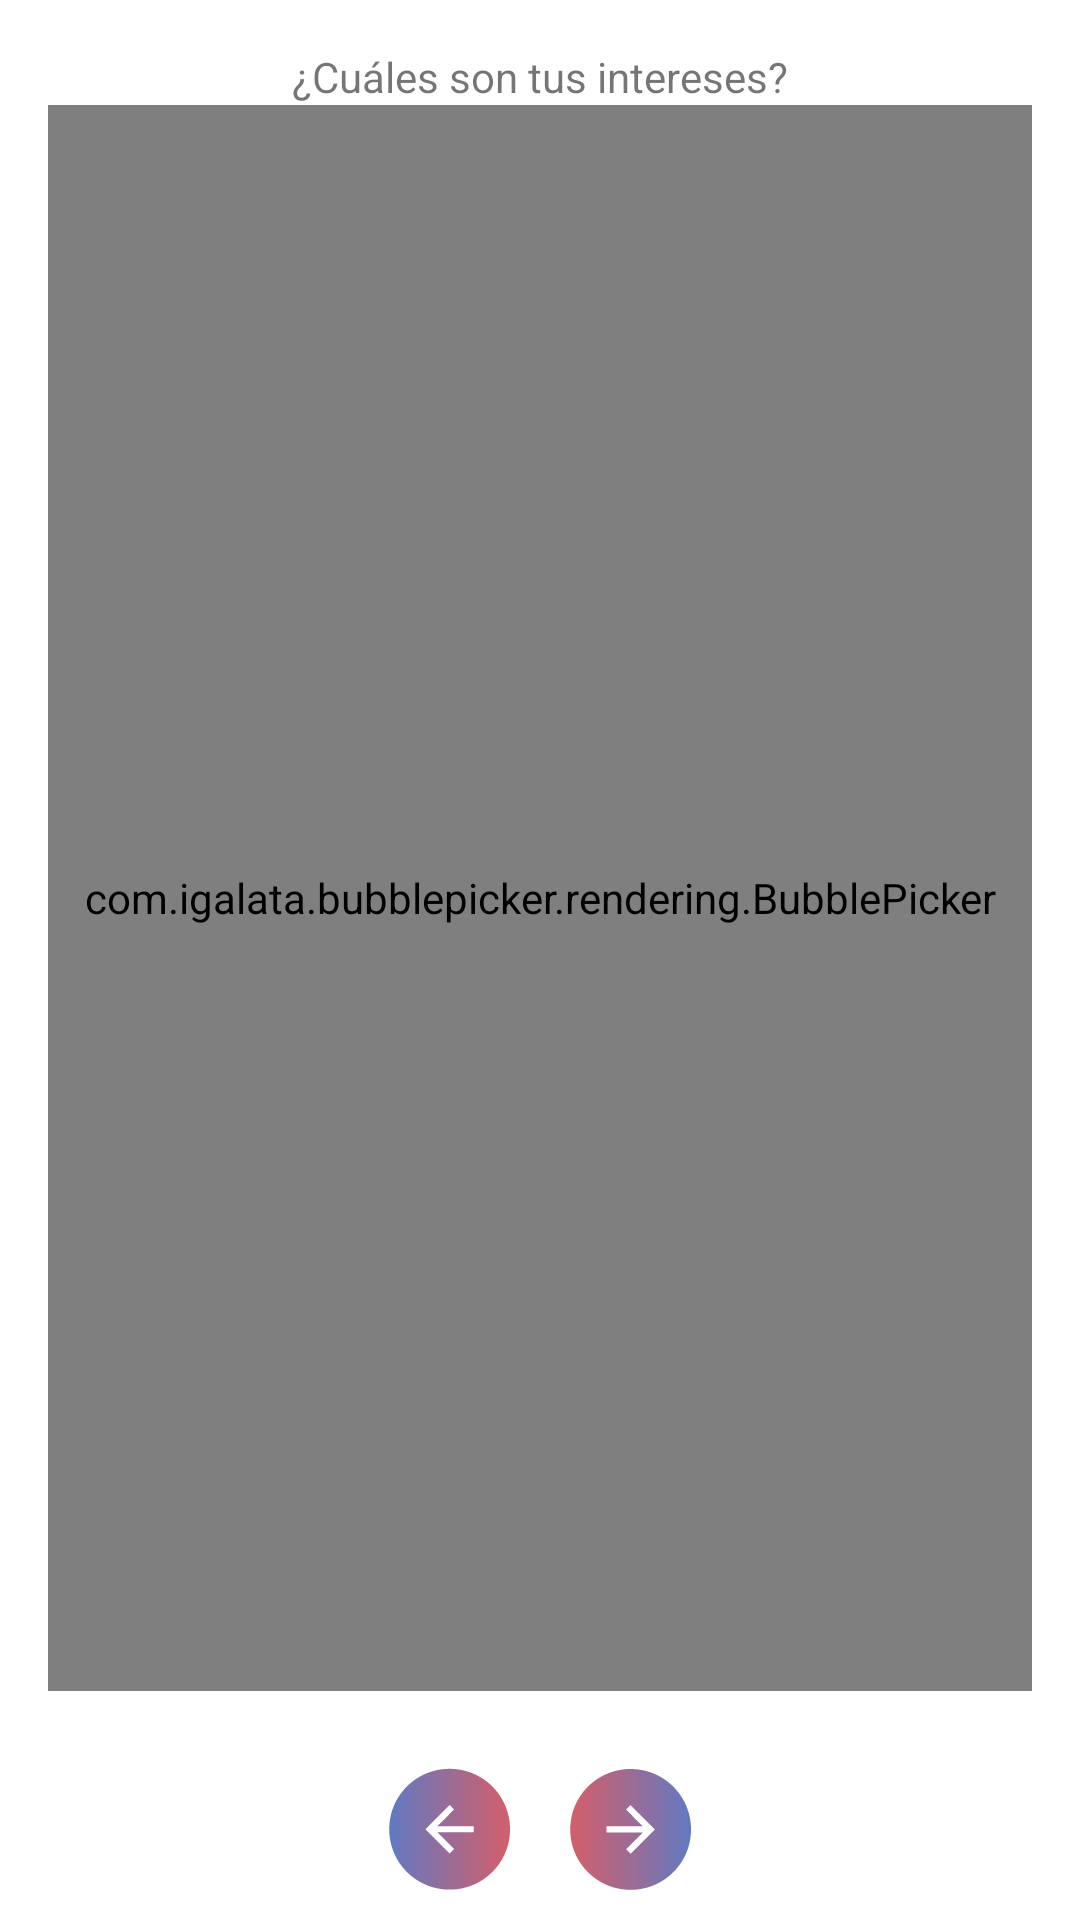

Where to tap for icons on this 1080*1920 app screen, as (x,y):
back shining: (449,1829)
next: (630,1829)
